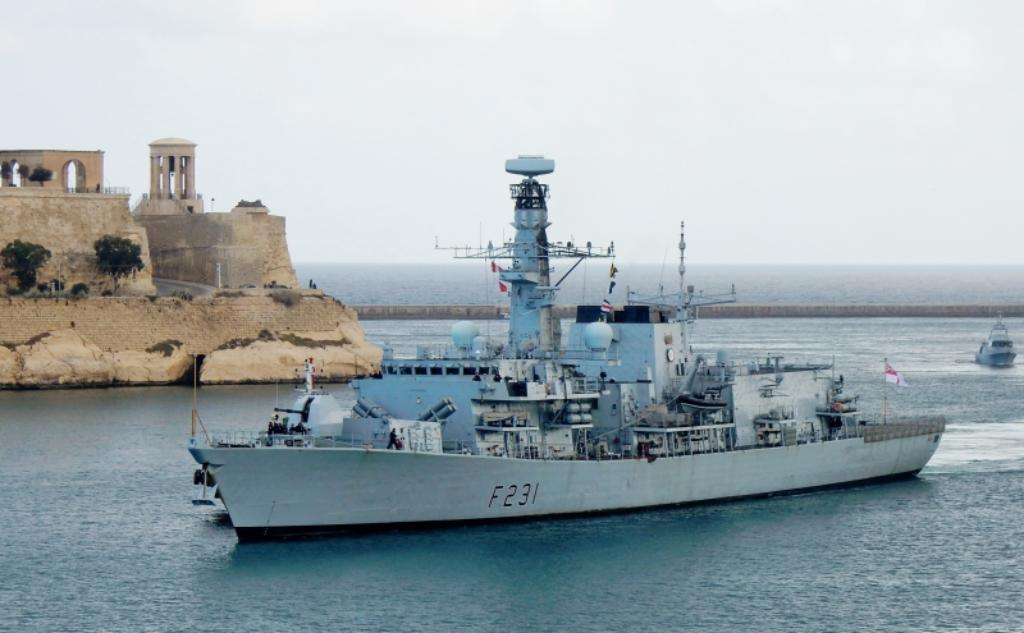Warship: (180, 152, 950, 552)
